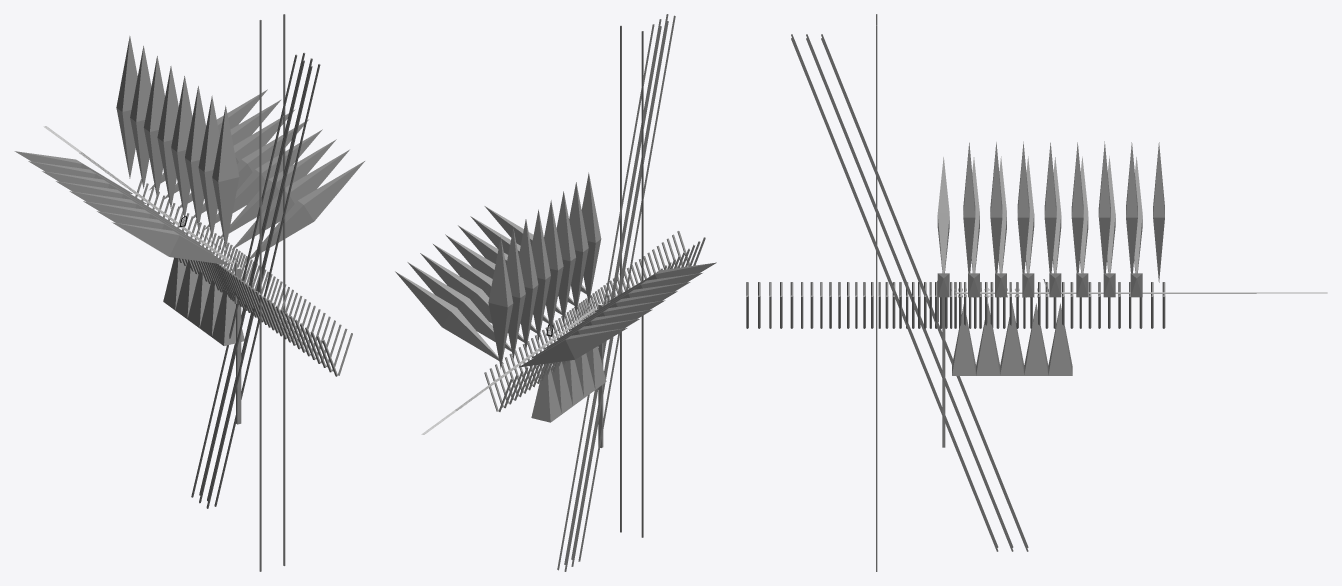
The model's file is panic2.glb.
The picture shows the model from 3 angles, left to right: view 1: azimuth 30°, elevation 25°; view 2: azimuth 150°, elevation 25°; view 3: azimuth 270°, elevation 25°; orthographic projection. The views are drawn at different scales.
Parts seen in each view (by area): view 1: Cone (×37), BackColumns, BottomCones, TrackMirror, Construction; view 2: Cone (×35), BackColumns (×2), BottomCones (×2), TrackMirror; view 3: BackColumns (×2), BottomCones.
Boxes of the visible parts, left/top/right/bottom form: Cone (×37): left=14, top=36, right=364, bottom=265; BackColumns: left=191, top=14, right=320, bottom=571; BottomCones: left=163, top=258, right=244, bottom=345; TrackMirror: left=43, top=126, right=233, bottom=263; Construction: left=236, top=268, right=241, bottom=424; Cone (×35): left=395, top=172, right=716, bottom=368; BackColumns (×2): left=557, top=14, right=675, bottom=571; BottomCones (×2): left=531, top=346, right=606, bottom=422; TrackMirror: left=421, top=308, right=596, bottom=434; BackColumns (×2): left=791, top=14, right=1028, bottom=571; BottomCones: left=952, top=303, right=1072, bottom=375.
Bounding box in the file's own units: 193 × 400 × 386.
Materials: 13 (2 with a texture image).
